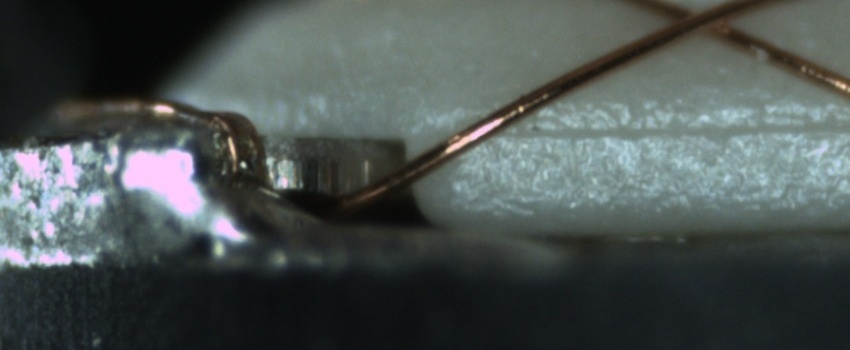CL: (649, 1, 757, 42)
DL: (496, 100, 849, 164)
TE: (47, 92, 276, 185)
